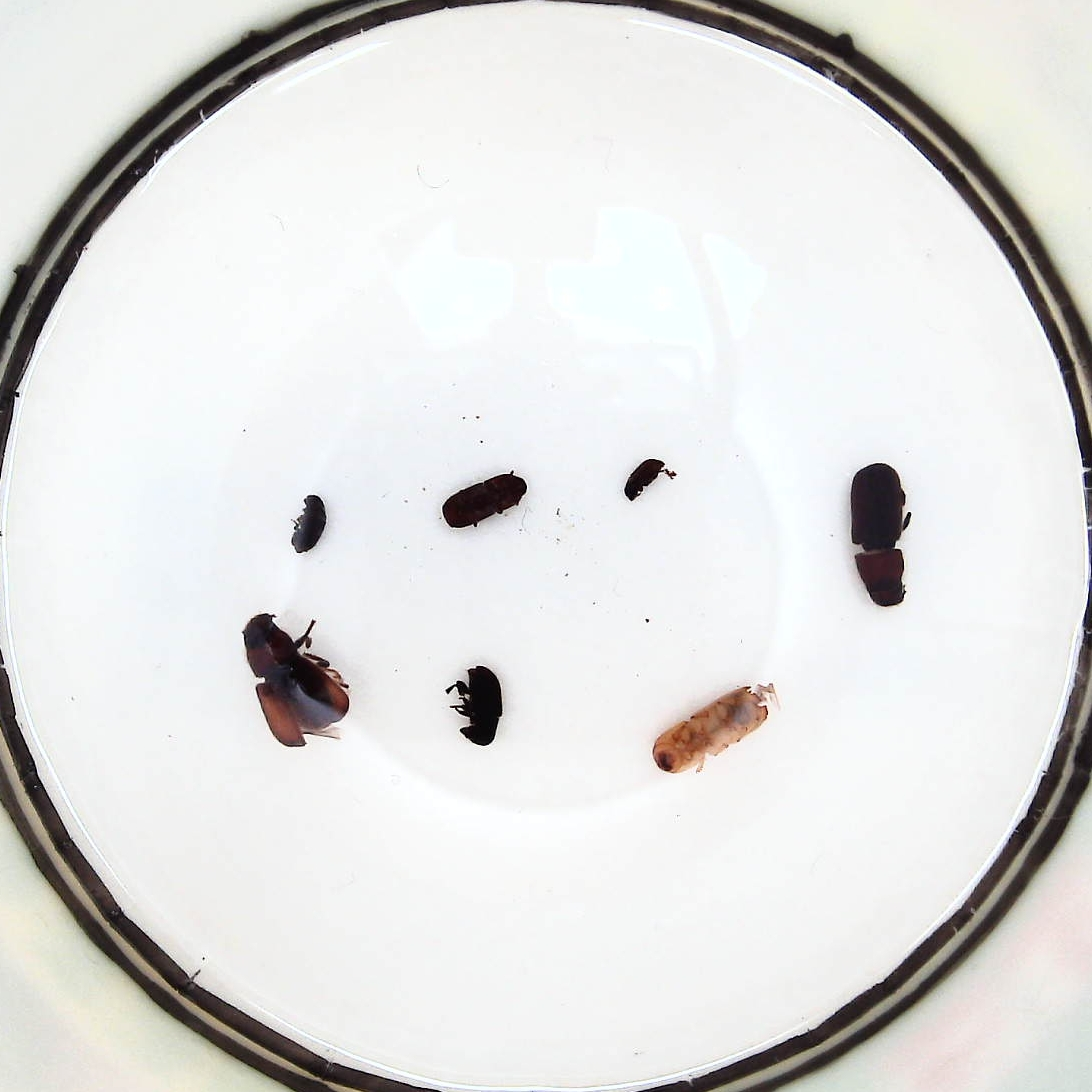Boerner: (654, 687, 769, 772)
Leconte: (242, 613, 349, 747), (850, 463, 911, 606)
acuminatus: (290, 495, 326, 554)
armandi: (458, 665, 504, 746)
coleoptera: (624, 459, 666, 501)
linnaeus: (442, 471, 527, 530)
